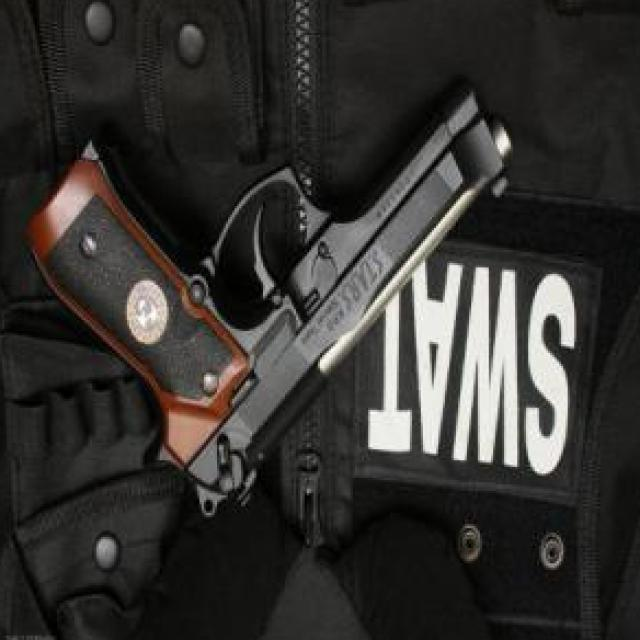pistol: (24, 65, 513, 526)
